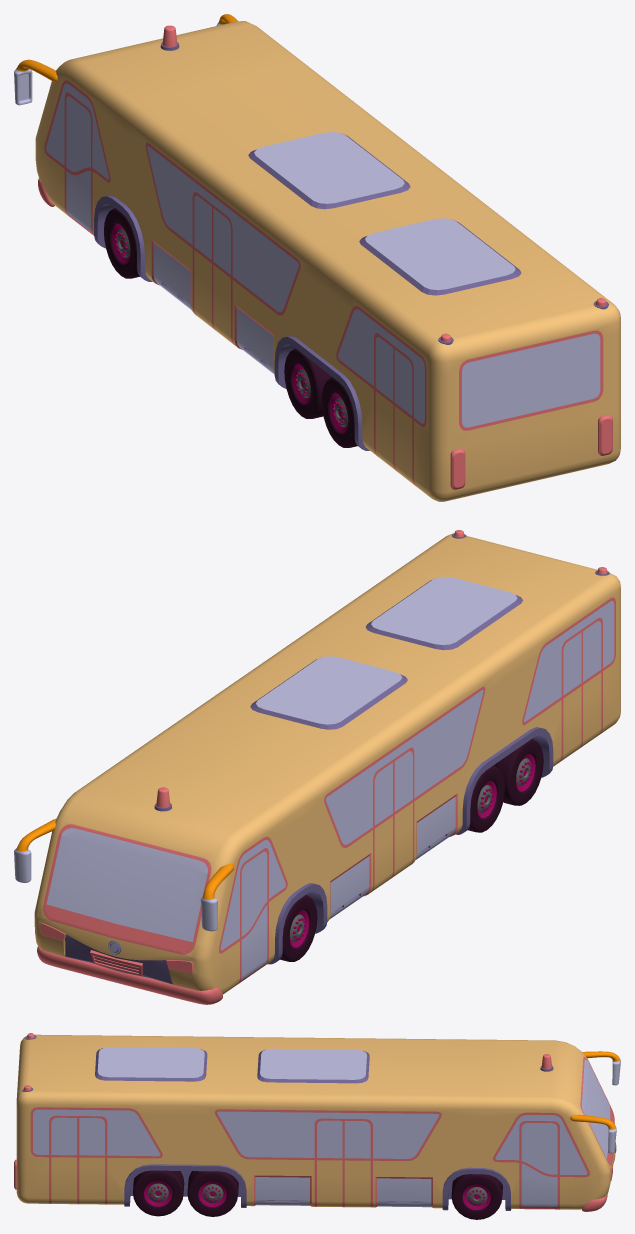
Rendered from Bis1.fbx.
3 views of the same model, one above another, from view 1: azimuth 30°, elevation 25°; view 2: azimuth 150°, elevation 25°; view 3: azimuth 270°, elevation 25° (orthographic). The views are drawn at different scales.
Parts seen in each view (by area): view 1: 20.PassengerBus.001; view 2: 20.PassengerBus.001; view 3: 20.PassengerBus.001.
Boxes of the visible parts, x1=… form: 20.PassengerBus.001: x1=14, y1=14, x2=620, y2=501; 20.PassengerBus.001: x1=14, y1=530, x2=620, y2=1004; 20.PassengerBus.001: x1=14, y1=1033, x2=620, y2=1219.
Size of the model in its own units: 15.06 by 12.45 by 51.23.
1 material, 1 textured.
